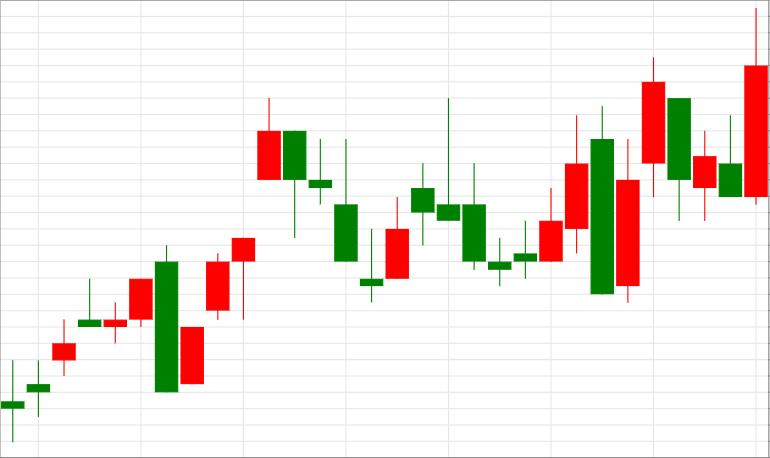bearish_engulfing_fall: (1, 244, 178, 442)
morning_star_rise: (283, 131, 409, 303)
